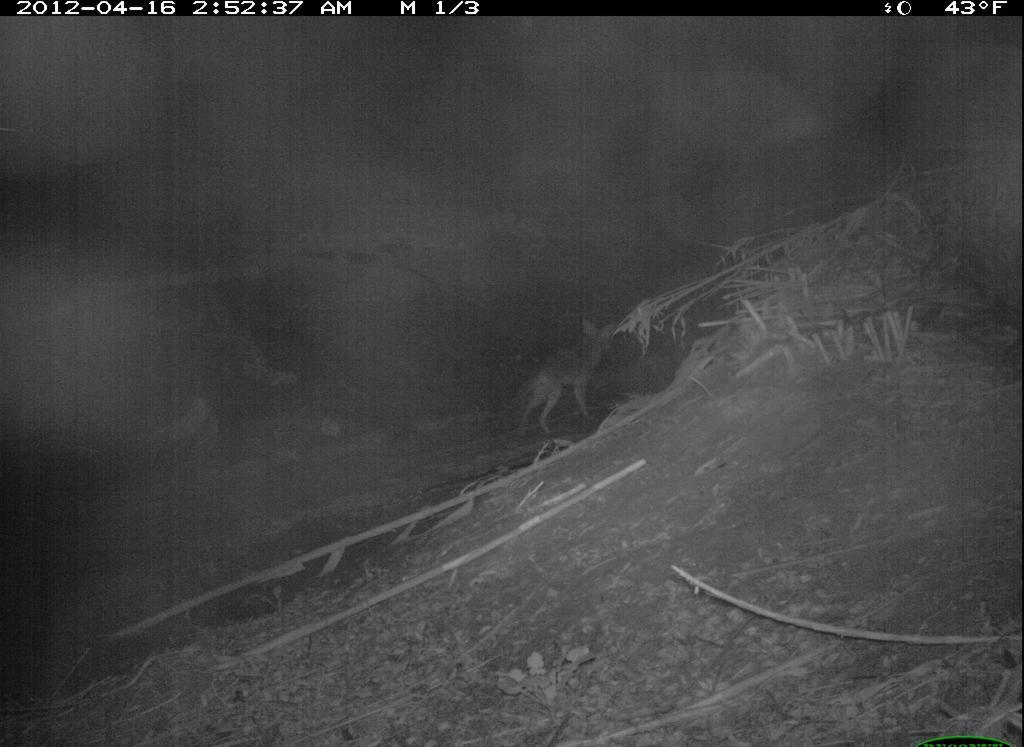coyote: (502, 306, 620, 448)
